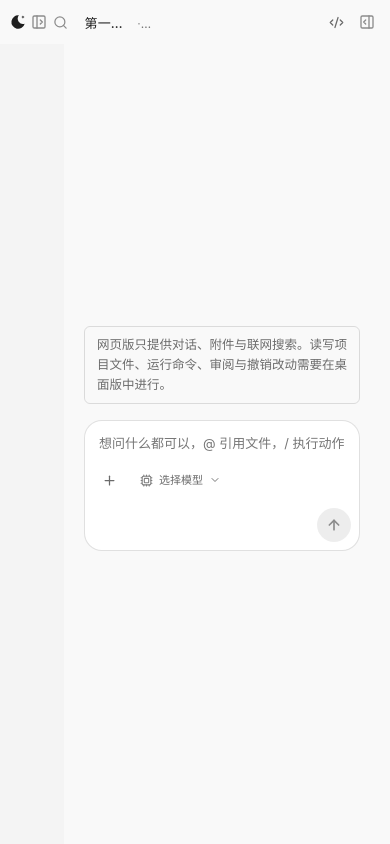
Test: DesktopLayout › 按 Escape 取消标题编辑时不保存
Click the button titled "点击重命名": (104, 22) [79,10,129,34]
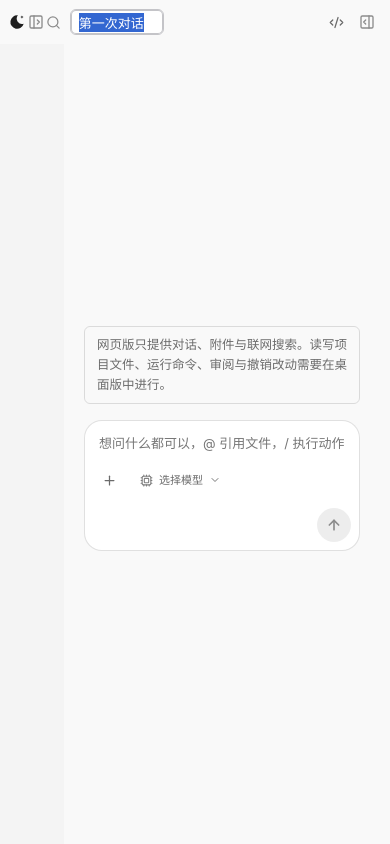
Replace the text in the field named "重命名当前会话" with "尚未保存的标题": (117, 22) [70,9,164,35]
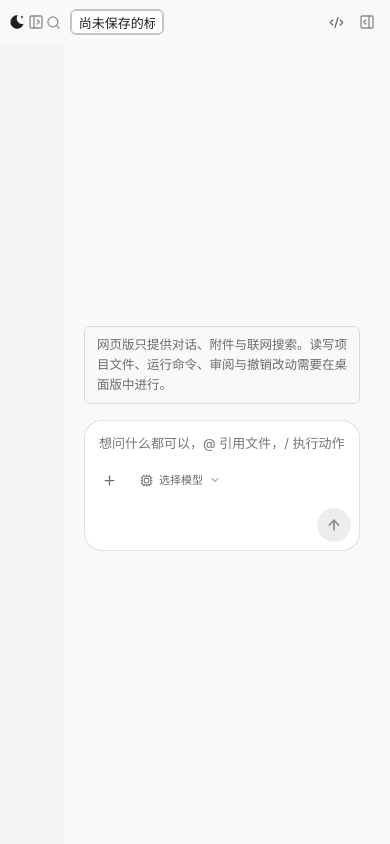
Press Escape
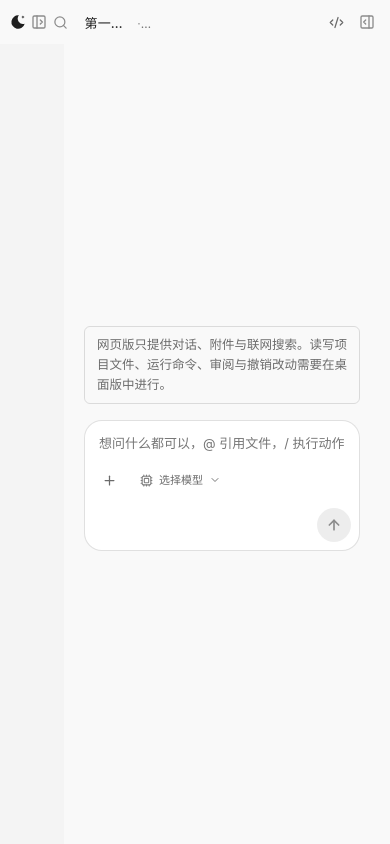
Expected: the field labelled "重命名当前会话" is gone
